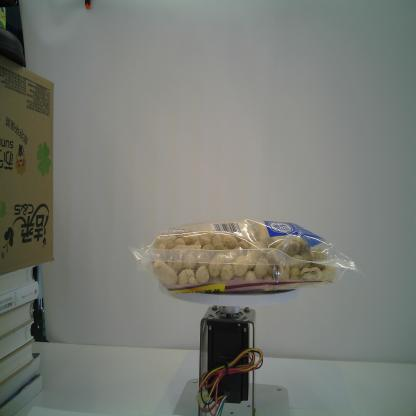Dried Food: (121, 214, 363, 302)
